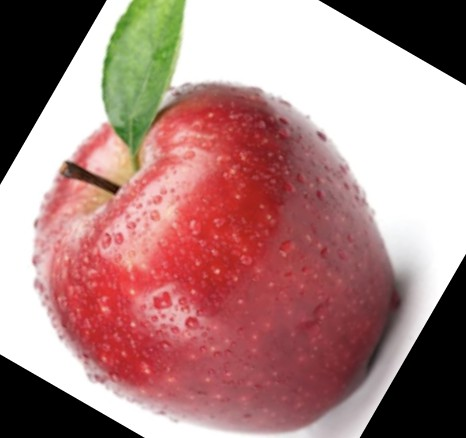fresh_apple: (30, 82, 394, 436)
